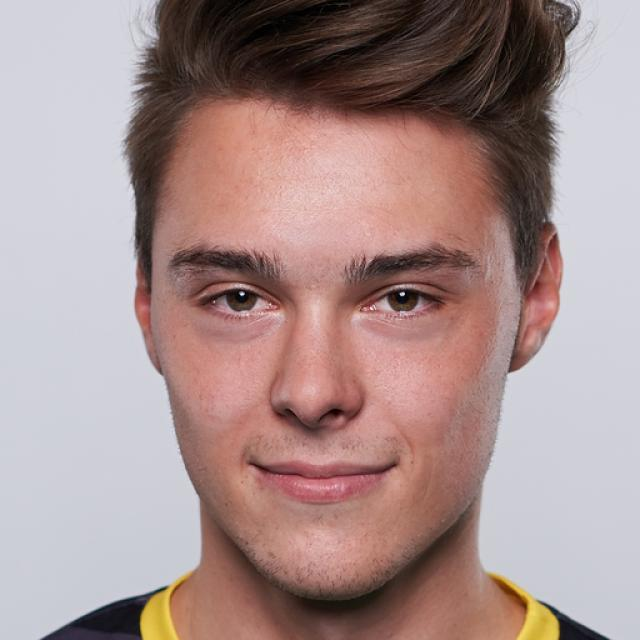content: (152, 103, 516, 602)
